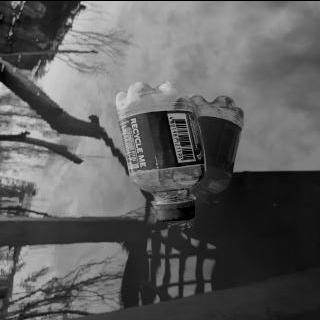bottle: (110, 77, 208, 223)
